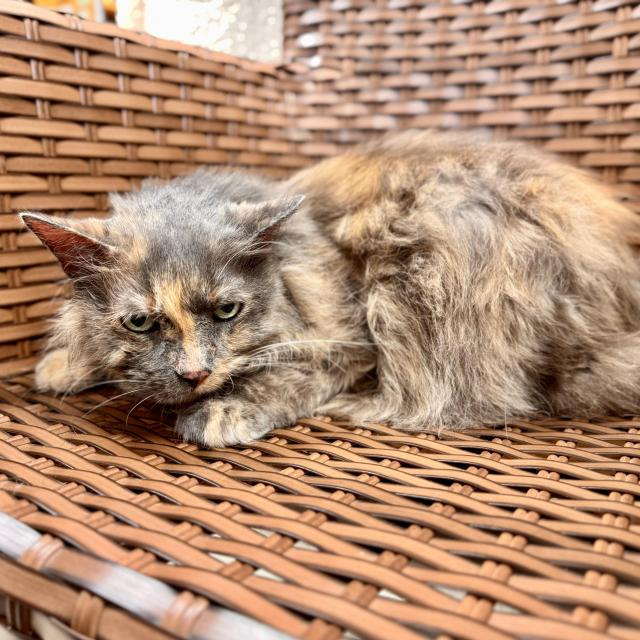manx_cat: (16, 151, 333, 419)
